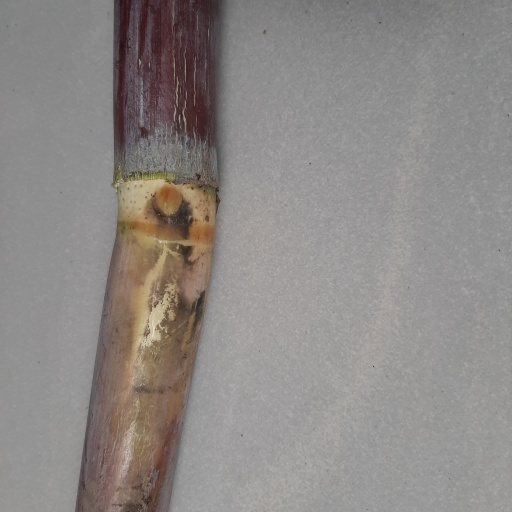Bud: (153, 184, 183, 217)
